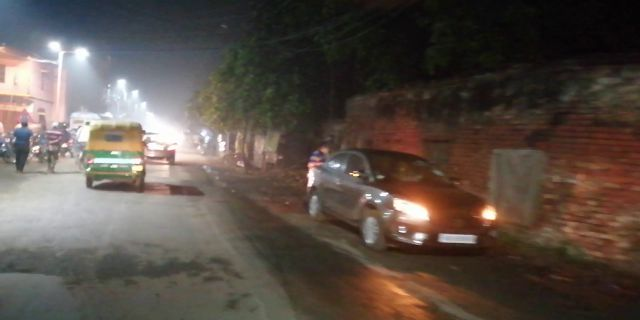Autorickshaw: (86, 123, 146, 187)
Car: (296, 144, 505, 262)
